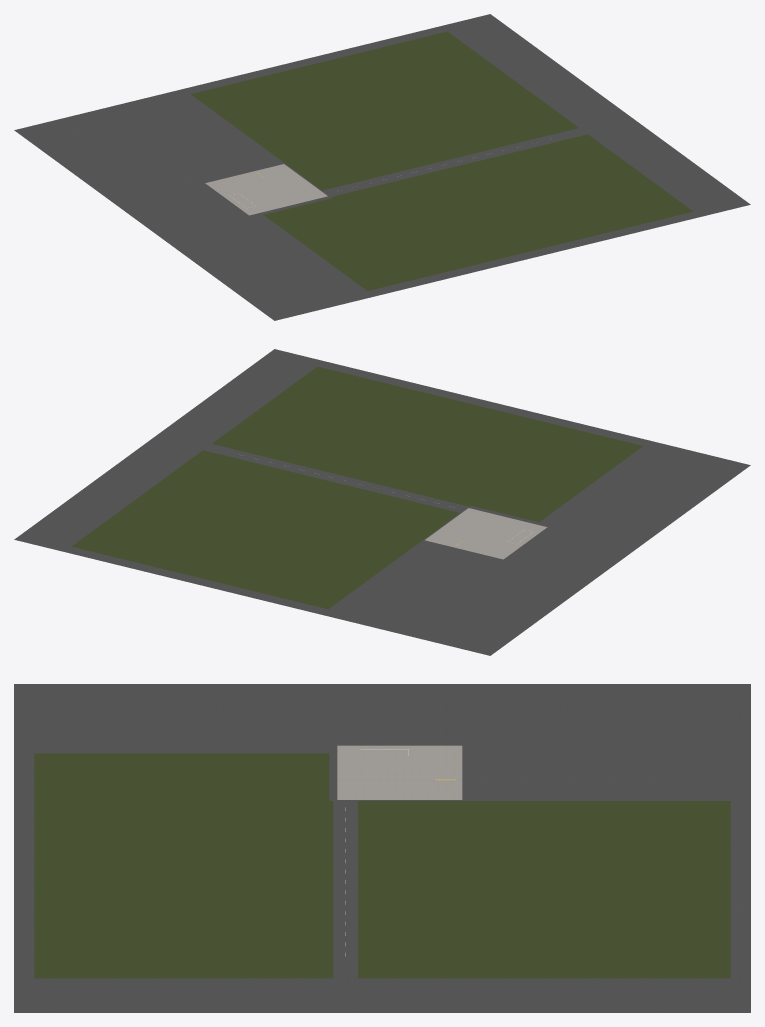
The model's file is yard_floor.glb.
3 renders of one model, top to bottom at view 1: azimuth 30°, elevation 25°; view 2: azimuth 150°, elevation 25°; view 3: azimuth 270°, elevation 25°, orthographic. The views are drawn at different scales.
Parts seen in each view (by area): view 1: yard_floor; view 2: yard_floor; view 3: yard_floor.
Part boxes in pixels (left/top/right/bottom): yard_floor: left=14, top=14, right=750, bottom=320; yard_floor: left=14, top=349, right=750, bottom=655; yard_floor: left=14, top=684, right=750, bottom=1012.
Bounding box in the file's own units: 380 × 0.087 × 360.
6 materials, 3 textured.
